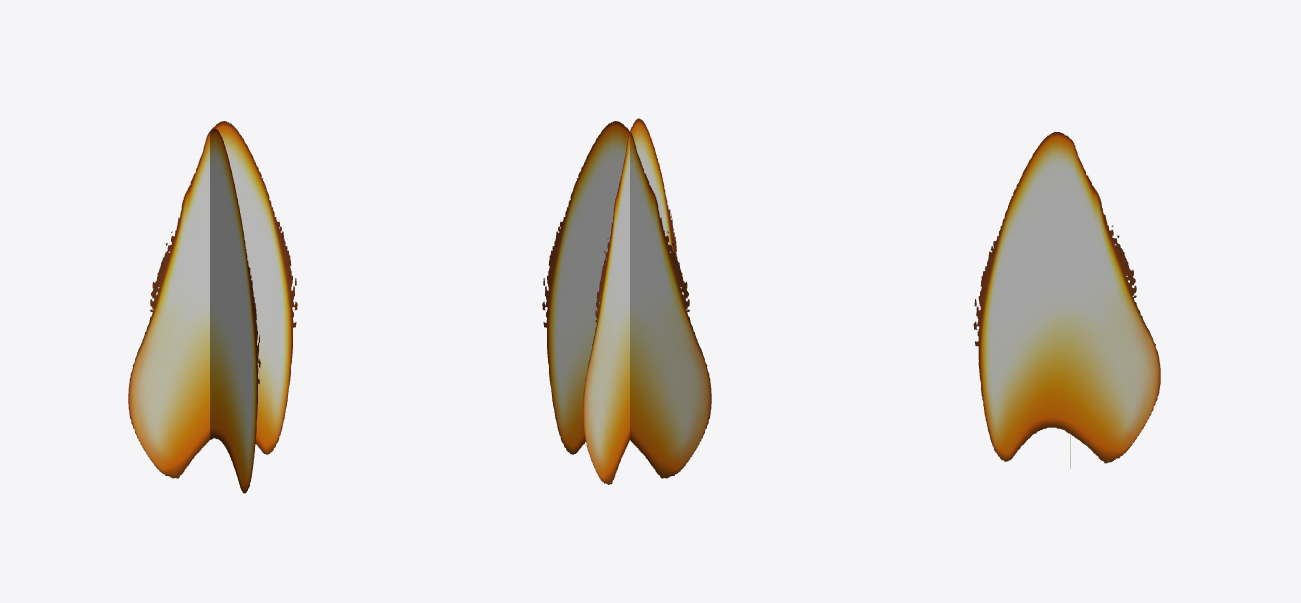
The picture shows the model from 3 angles, left to right: view 1: azimuth 30°, elevation 25°; view 2: azimuth 150°, elevation 25°; view 3: azimuth 270°, elevation 25°; orthographic projection. The views are drawn at different scales.
Visible parts, largest first — view 1: FlameQuad; view 2: FlameQuad; view 3: FlameQuad.
Boxes of the visible parts, <box> form: FlameQuad: <box>128,121,297,493</box>; FlameQuad: <box>542,118,711,484</box>; FlameQuad: <box>973,132,1160,468</box>.
Bounding box in the file's own units: 7 × 7 × 7.
